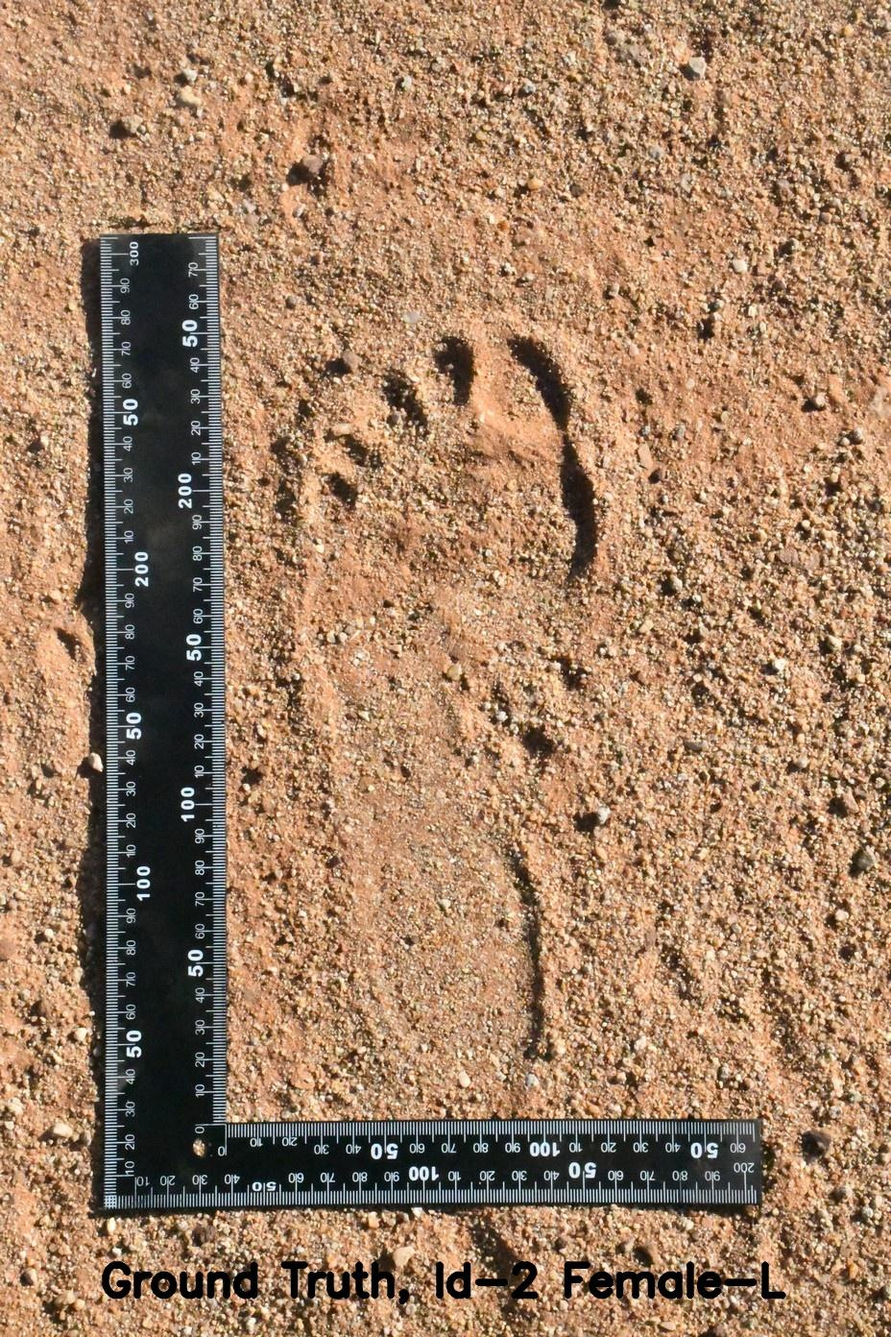human_footprint: (250, 282, 657, 1110)
